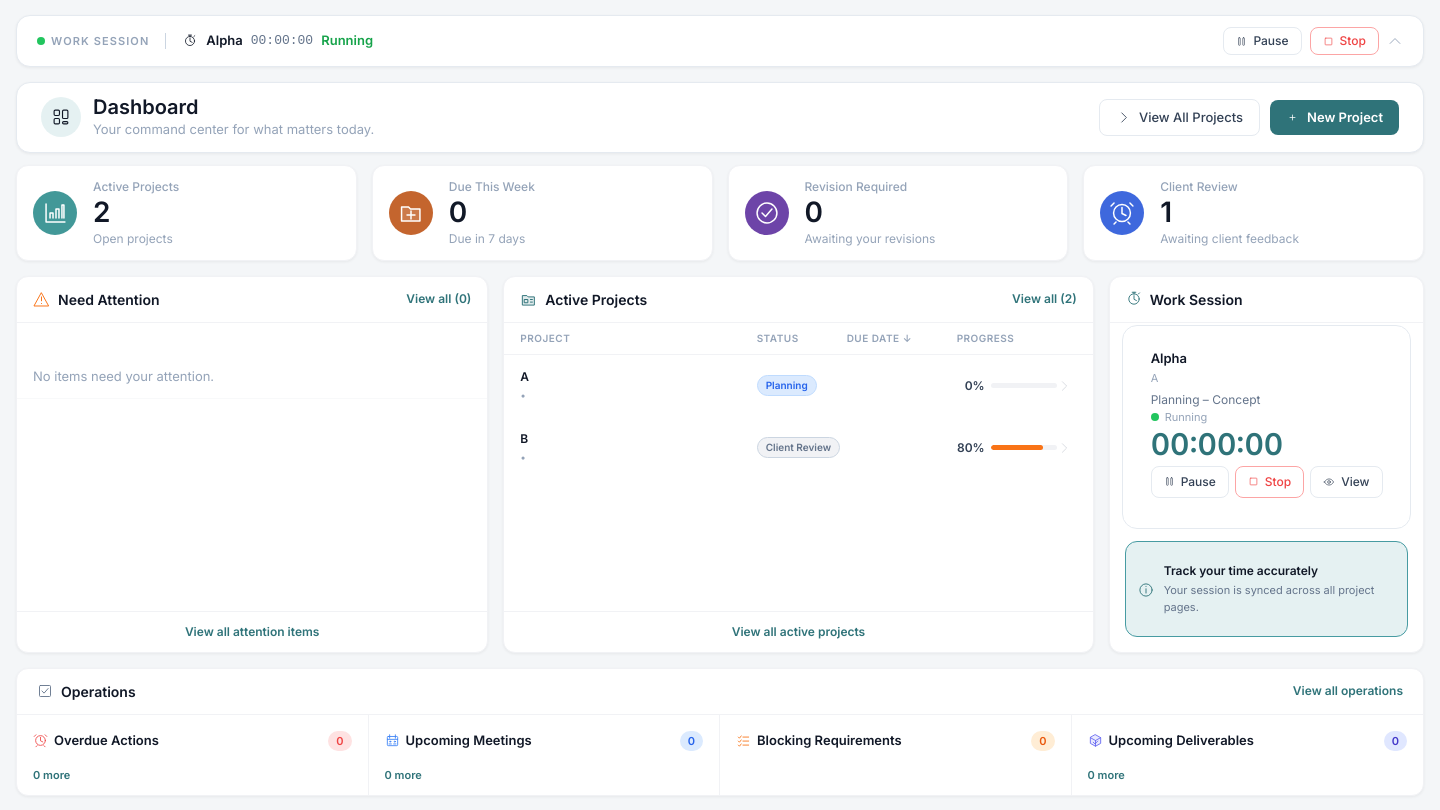
Test case: opens session details before navigating to the associated project
Click the button "View": click(1346, 482) [1310,466,1382,498]
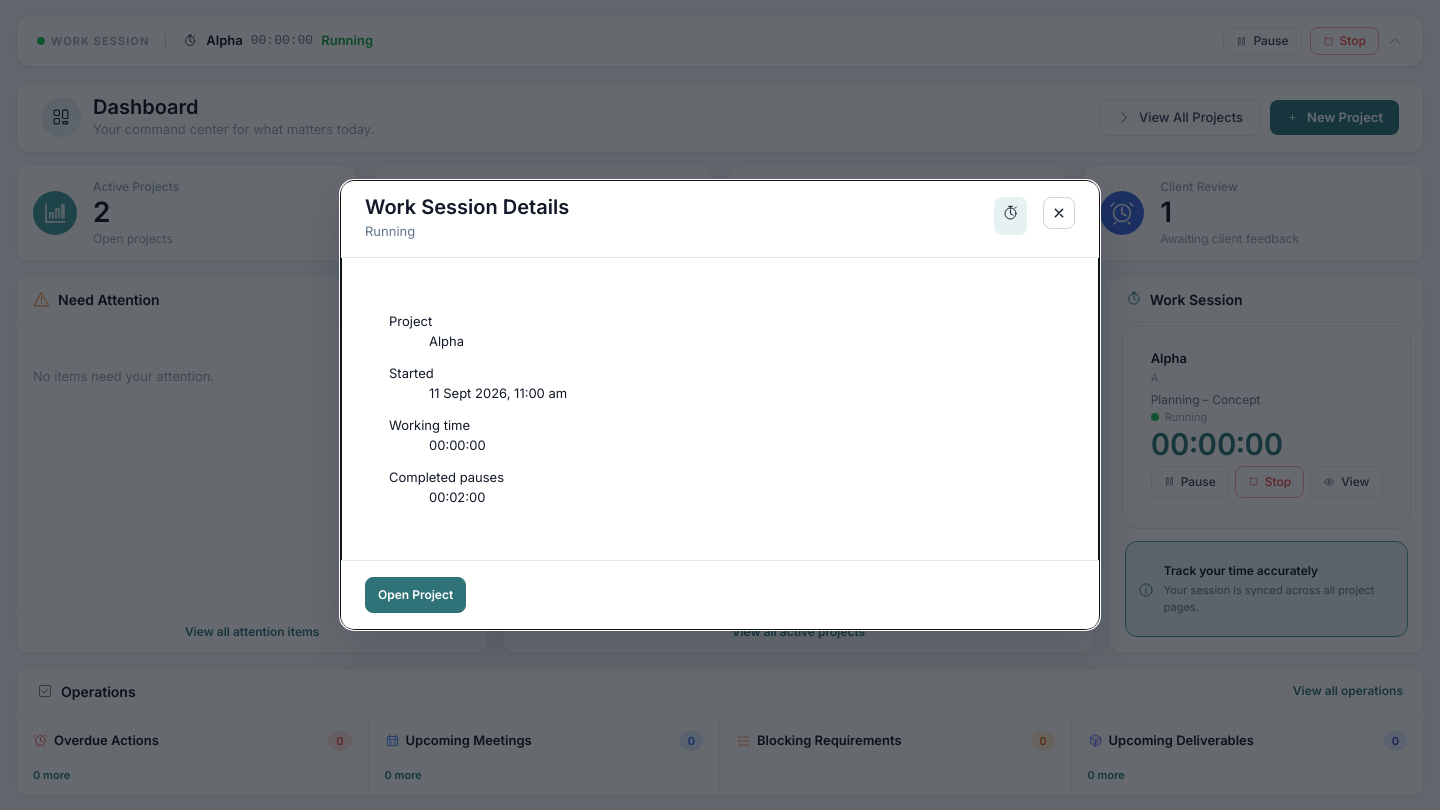
Check: the text "Alpha" is shown, box [429,333,464,349]
Check: the text "00:02:00" is shown, box [429,489,485,505]
Click the button "Open Project": click(416, 595) [365,577,466,613]
(page scrolled)
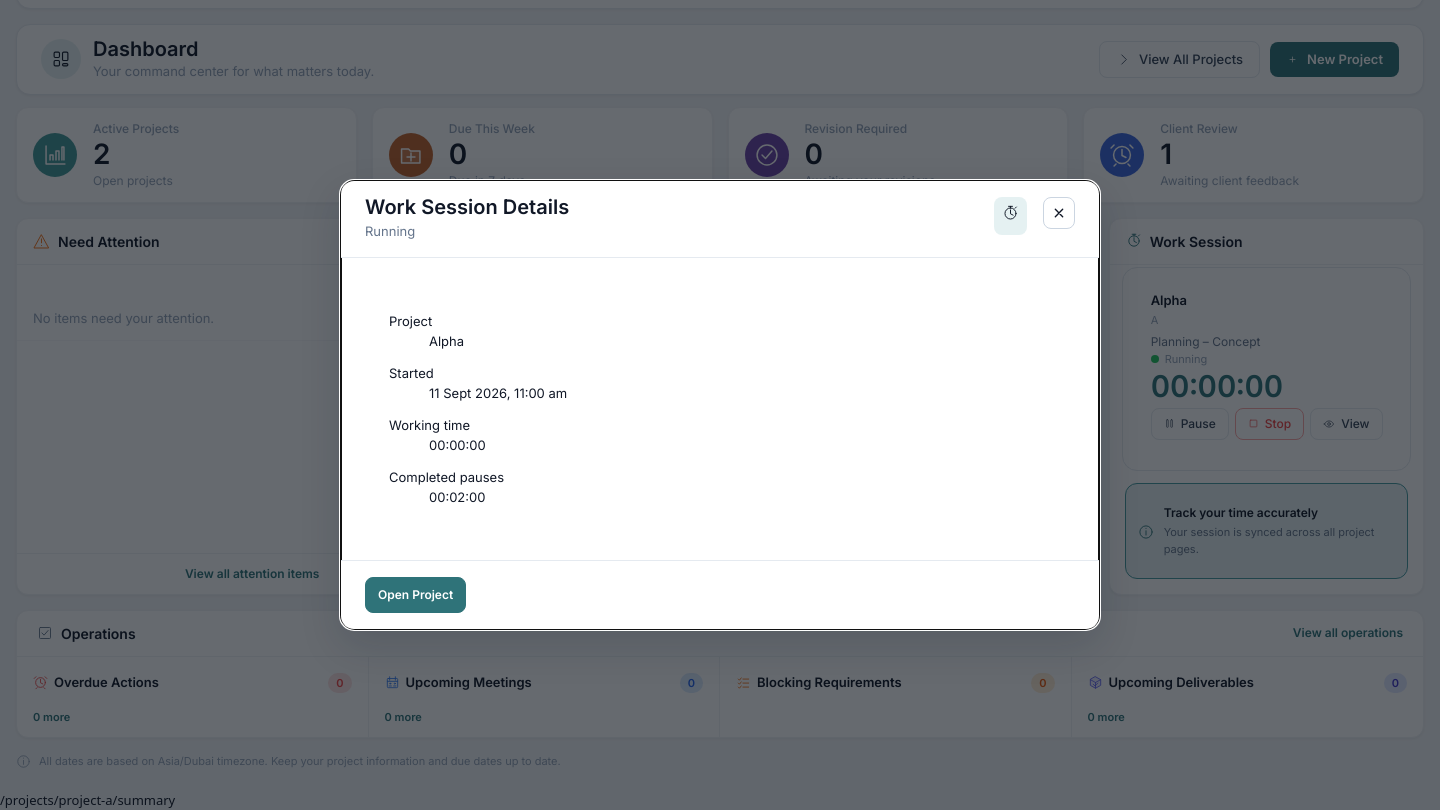
Check: the text named "Destination" reads "/projects/project-a/summary", box [0,790,175,808]
